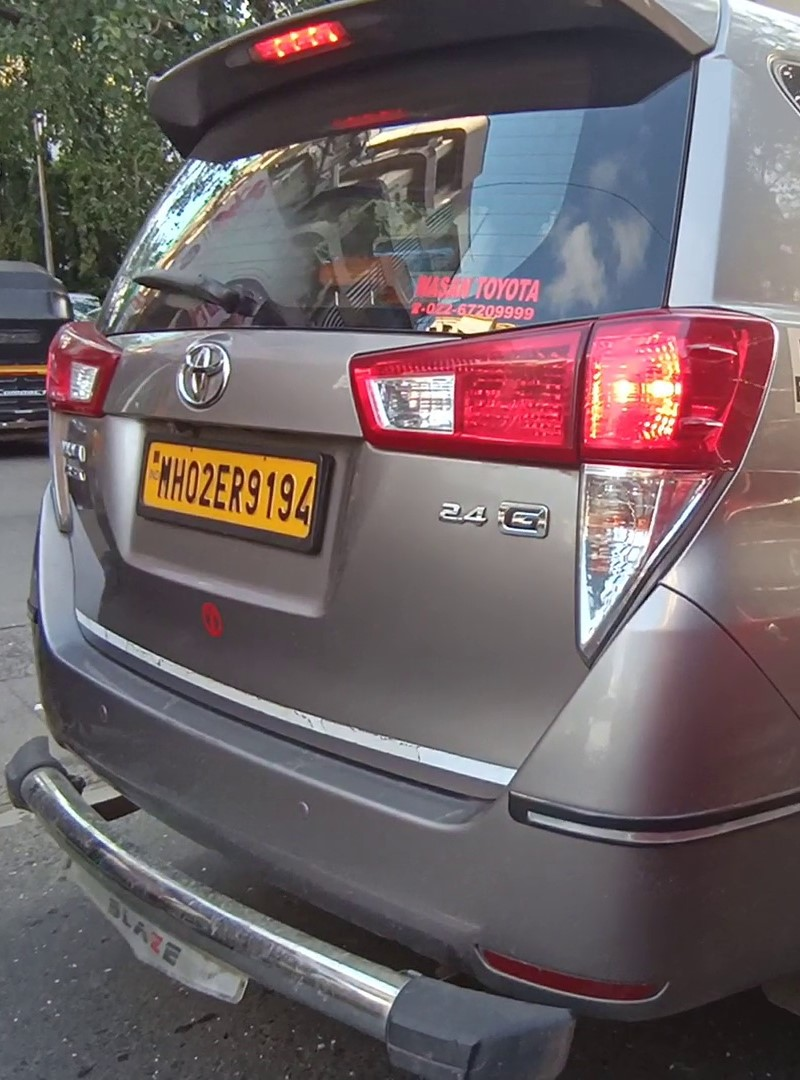MH02ER9194: (141, 440, 317, 539)
